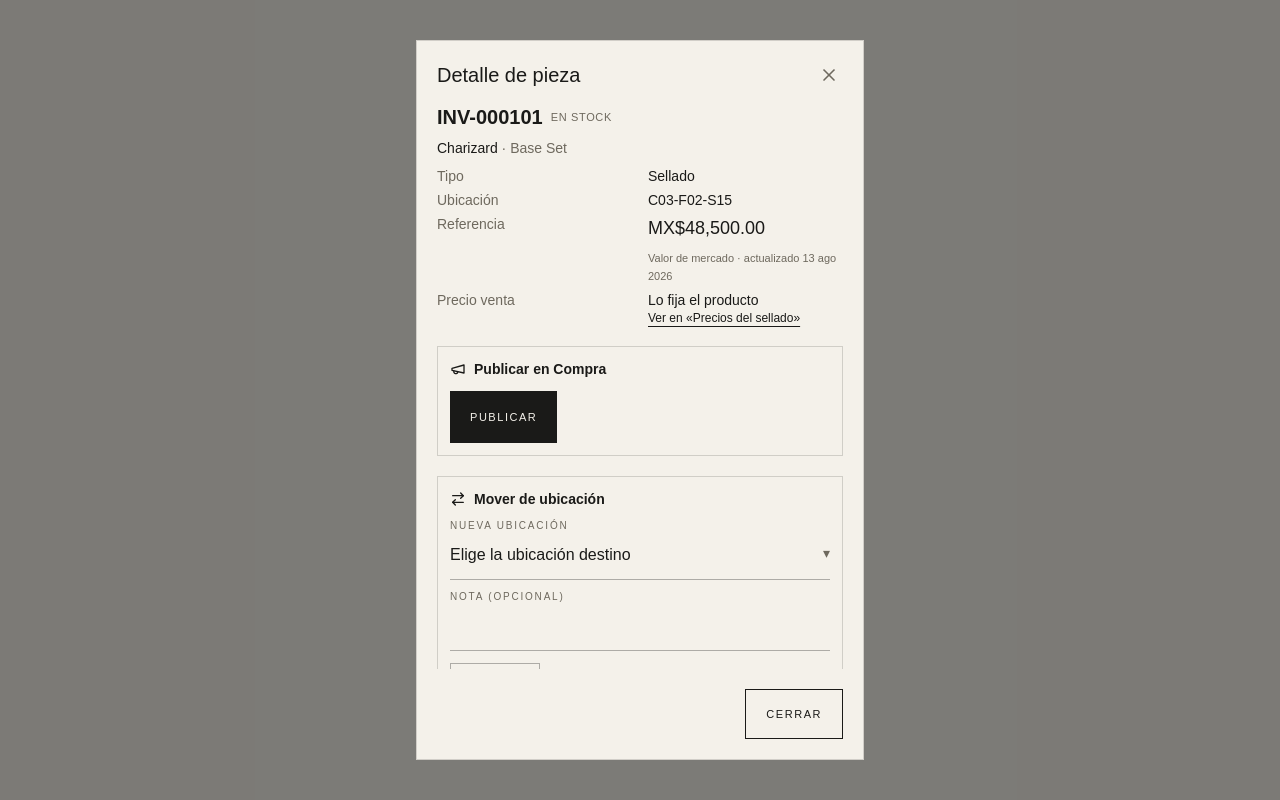
Test case: ItemDetailModal · §70.3 (c) sellado ligado / sin producto › ligado + 422 PRICE_PENDING ⇒ texto propio junto al botón
Click the button "Publicar" at (504, 417), box x1=450 y1=391 x2=557 y2=443
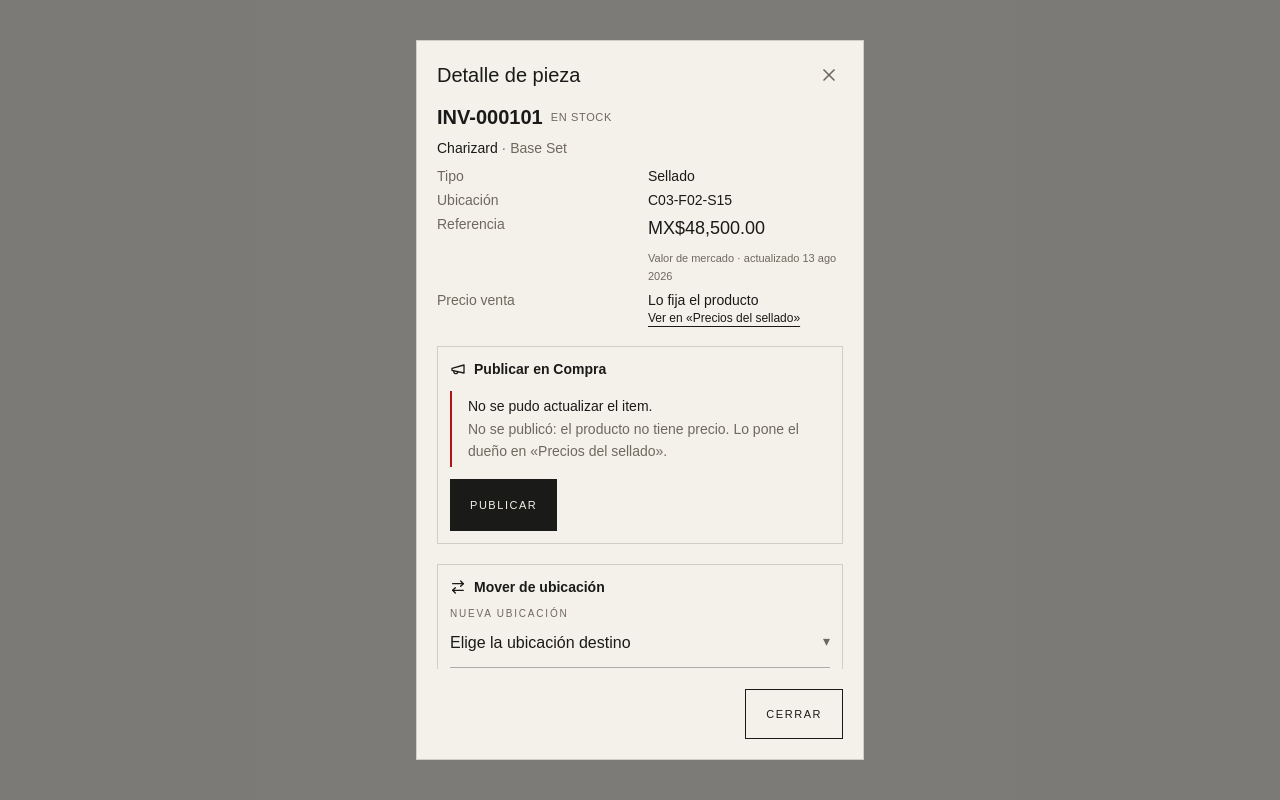
Expected: the message shows "No se publicó: el producto no tiene precio. Lo pone el dueño en «Precios del sellado».", x1=468 y1=420 x2=799 y2=459
